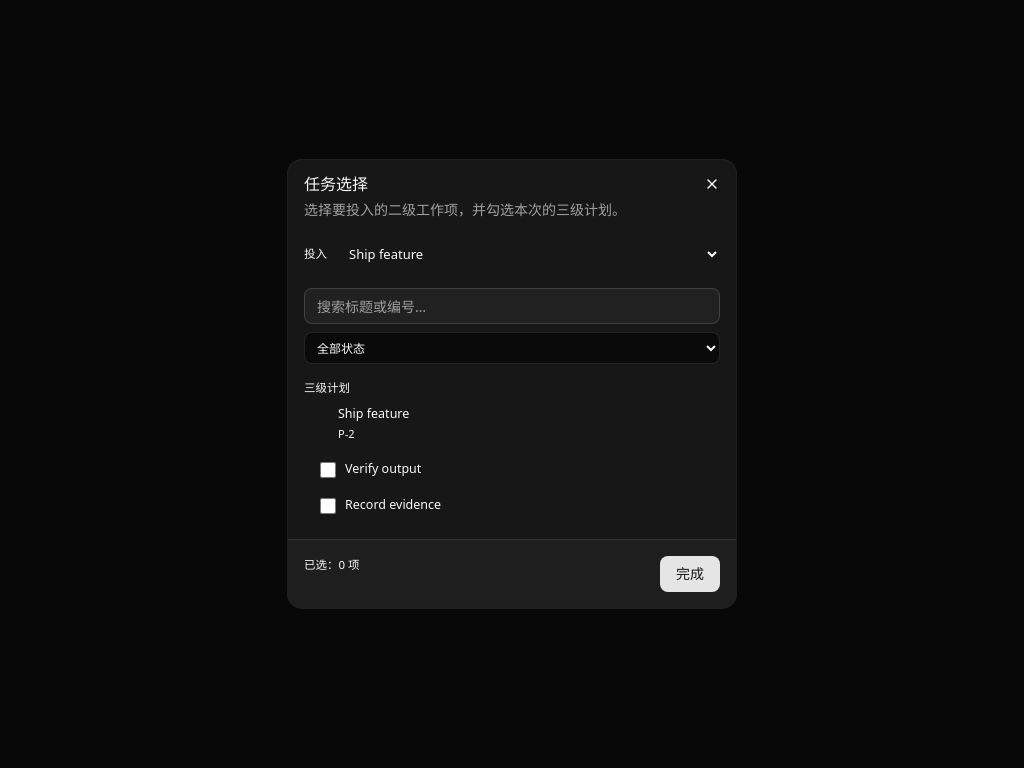
Test: TaskPickerModal 空态（外派单边界） › 筛选无命中 → 明说没有匹配（区分于"没有三级项"）
This screenshot has width=1024, height=768.
Type "不存在的关键字" into the field named "搜索工作项" at (512, 306), box [304,288,720,324]
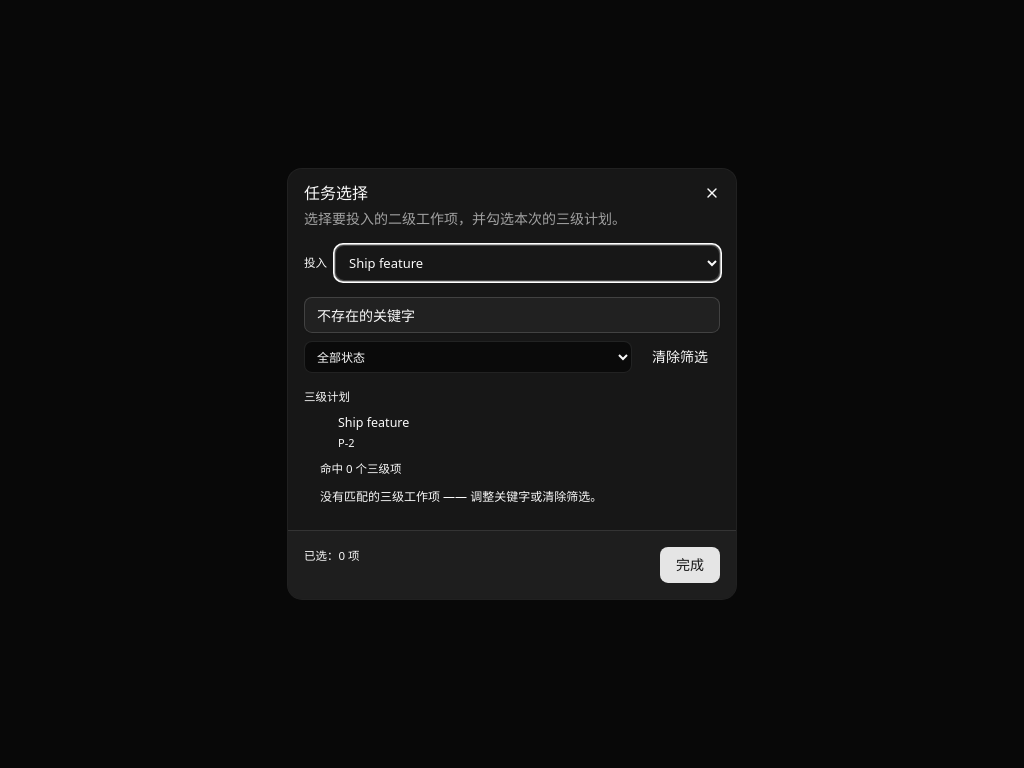
Check: the text "没有匹配的三级工作项 —— 调整关键字或清除筛选。" is shown, box [320,488,602,505]
